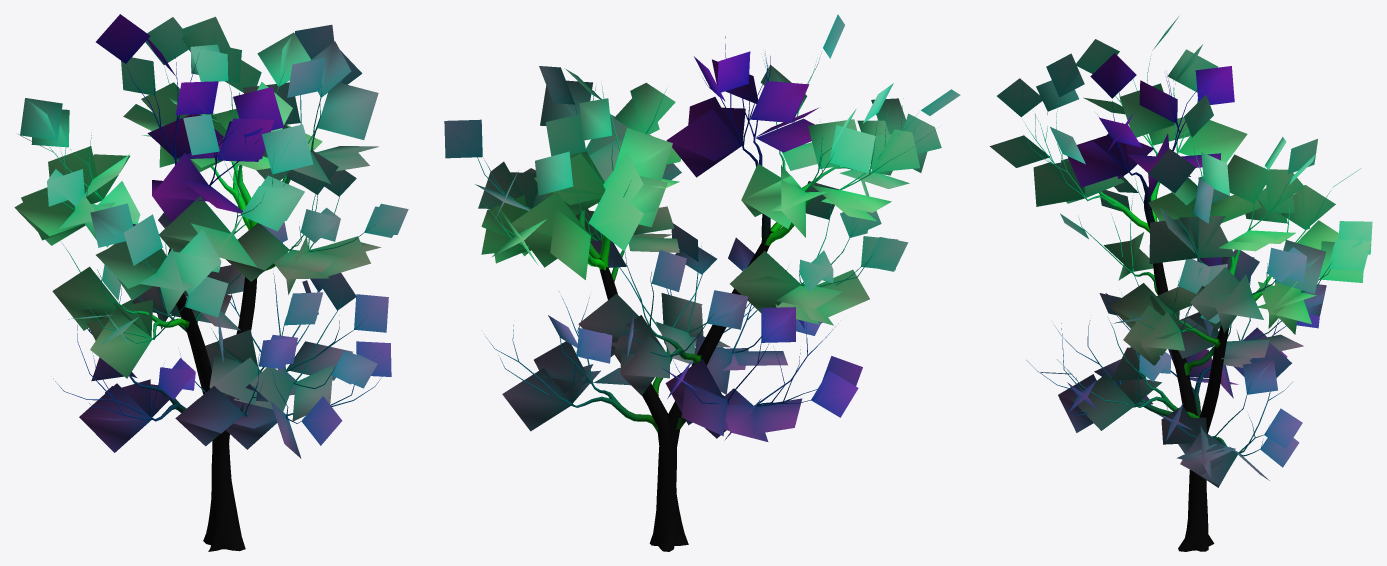
File: SM_Tree2_Compressed.glb
3 views of the same model, side by side, from view 1: azimuth 30°, elevation 25°; view 2: azimuth 150°, elevation 25°; view 3: azimuth 270°, elevation 25° (orthographic). The views are drawn at different scales.
Visible parts, largest first — view 1: Leaves, Tree; view 2: Leaves, Tree; view 3: Leaves, Tree.
Boxes of the visible parts, box(x1,y1,x2,y2) form: Leaves: box(14, 14, 408, 458); Tree: box(42, 54, 382, 551); Leaves: box(444, 14, 960, 441); Tree: box(477, 36, 934, 551); Leaves: box(990, 16, 1372, 487); Tree: box(1024, 56, 1332, 551).
Bounding box in the file's own units: 14.51 × 17.53 × 13.
